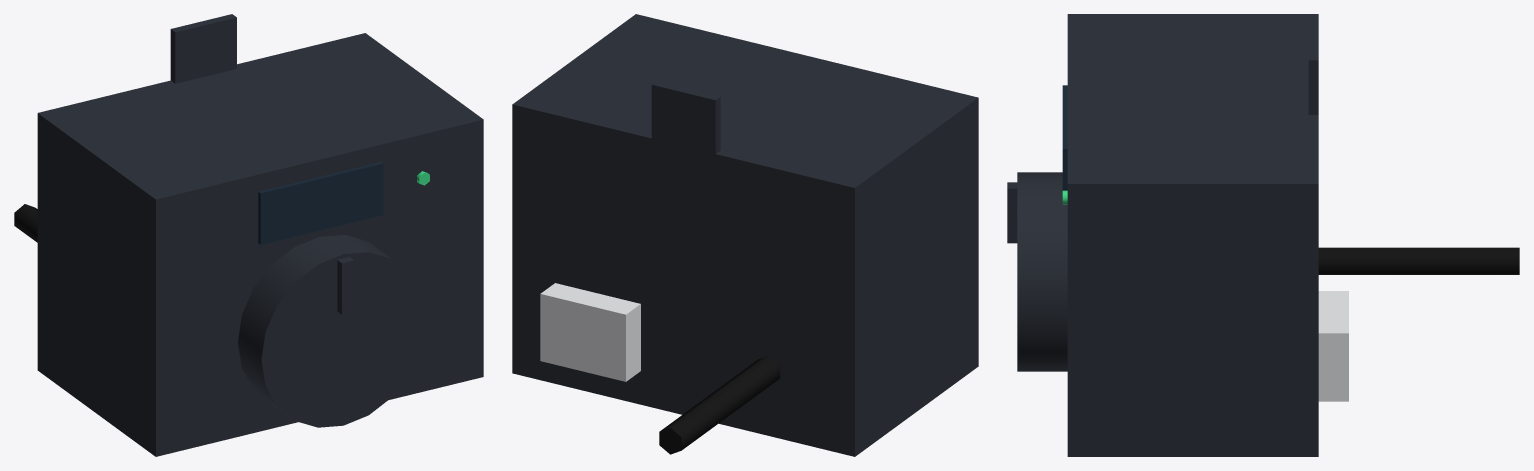
The model's file is controller-fan-speed.glb.
3 renders of one model, left to right at view 1: azimuth 30°, elevation 25°; view 2: azimuth 150°, elevation 25°; view 3: azimuth 270°, elevation 25°, orthographic. The views are drawn at different scales.
Parts seen in each view (by area): view 1: ctrl_body, ctrl_knob, ctrl_display, ctrl_tab, ctrl_cord; view 2: ctrl_body, ctrl_socket, ctrl_tab, ctrl_cord; view 3: ctrl_body, ctrl_knob, ctrl_cord, ctrl_socket, ctrl_tab, ctrl_display.
Boxes of the visible parts, x1=… form: ctrl_body: x1=37, y1=33, x2=483, y2=456; ctrl_knob: x1=238, y1=235, x2=425, y2=427; ctrl_display: x1=258, y1=162, x2=383, y2=244; ctrl_tab: x1=170, y1=14, x2=236, y2=83; ctrl_cord: x1=14, y1=204, x2=37, y2=242; ctrl_body: x1=512, y1=14, x2=978, y2=456; ctrl_socket: x1=540, y1=283, x2=640, y2=381; ctrl_tab: x1=651, y1=81, x2=720, y2=153; ctrl_cord: x1=659, y1=355, x2=780, y2=454; ctrl_body: x1=1067, y1=14, x2=1318, y2=456; ctrl_knob: x1=1007, y1=172, x2=1067, y2=371; ctrl_cord: x1=1318, y1=247, x2=1519, y2=274; ctrl_socket: x1=1318, y1=291, x2=1348, y2=401; ctrl_tab: x1=1308, y1=28, x2=1318, y2=114; ctrl_display: x1=1062, y1=85, x2=1067, y2=190.
Bounding box in the file's own units: 0.08 × 0.072 × 0.102.
